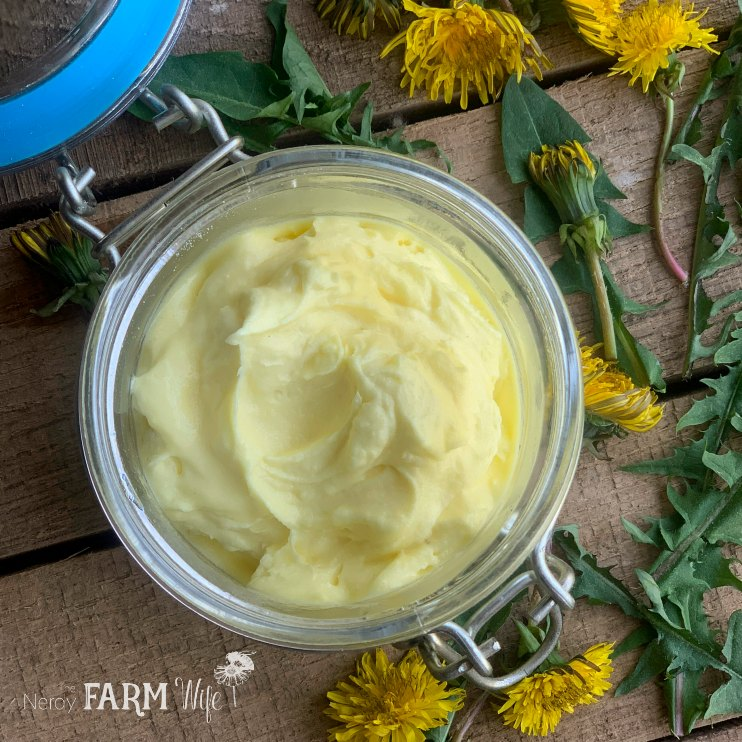dandelion: (575, 340, 676, 450), (318, 661, 453, 742), (400, 16, 525, 87), (508, 661, 632, 730), (619, 13, 703, 77)
